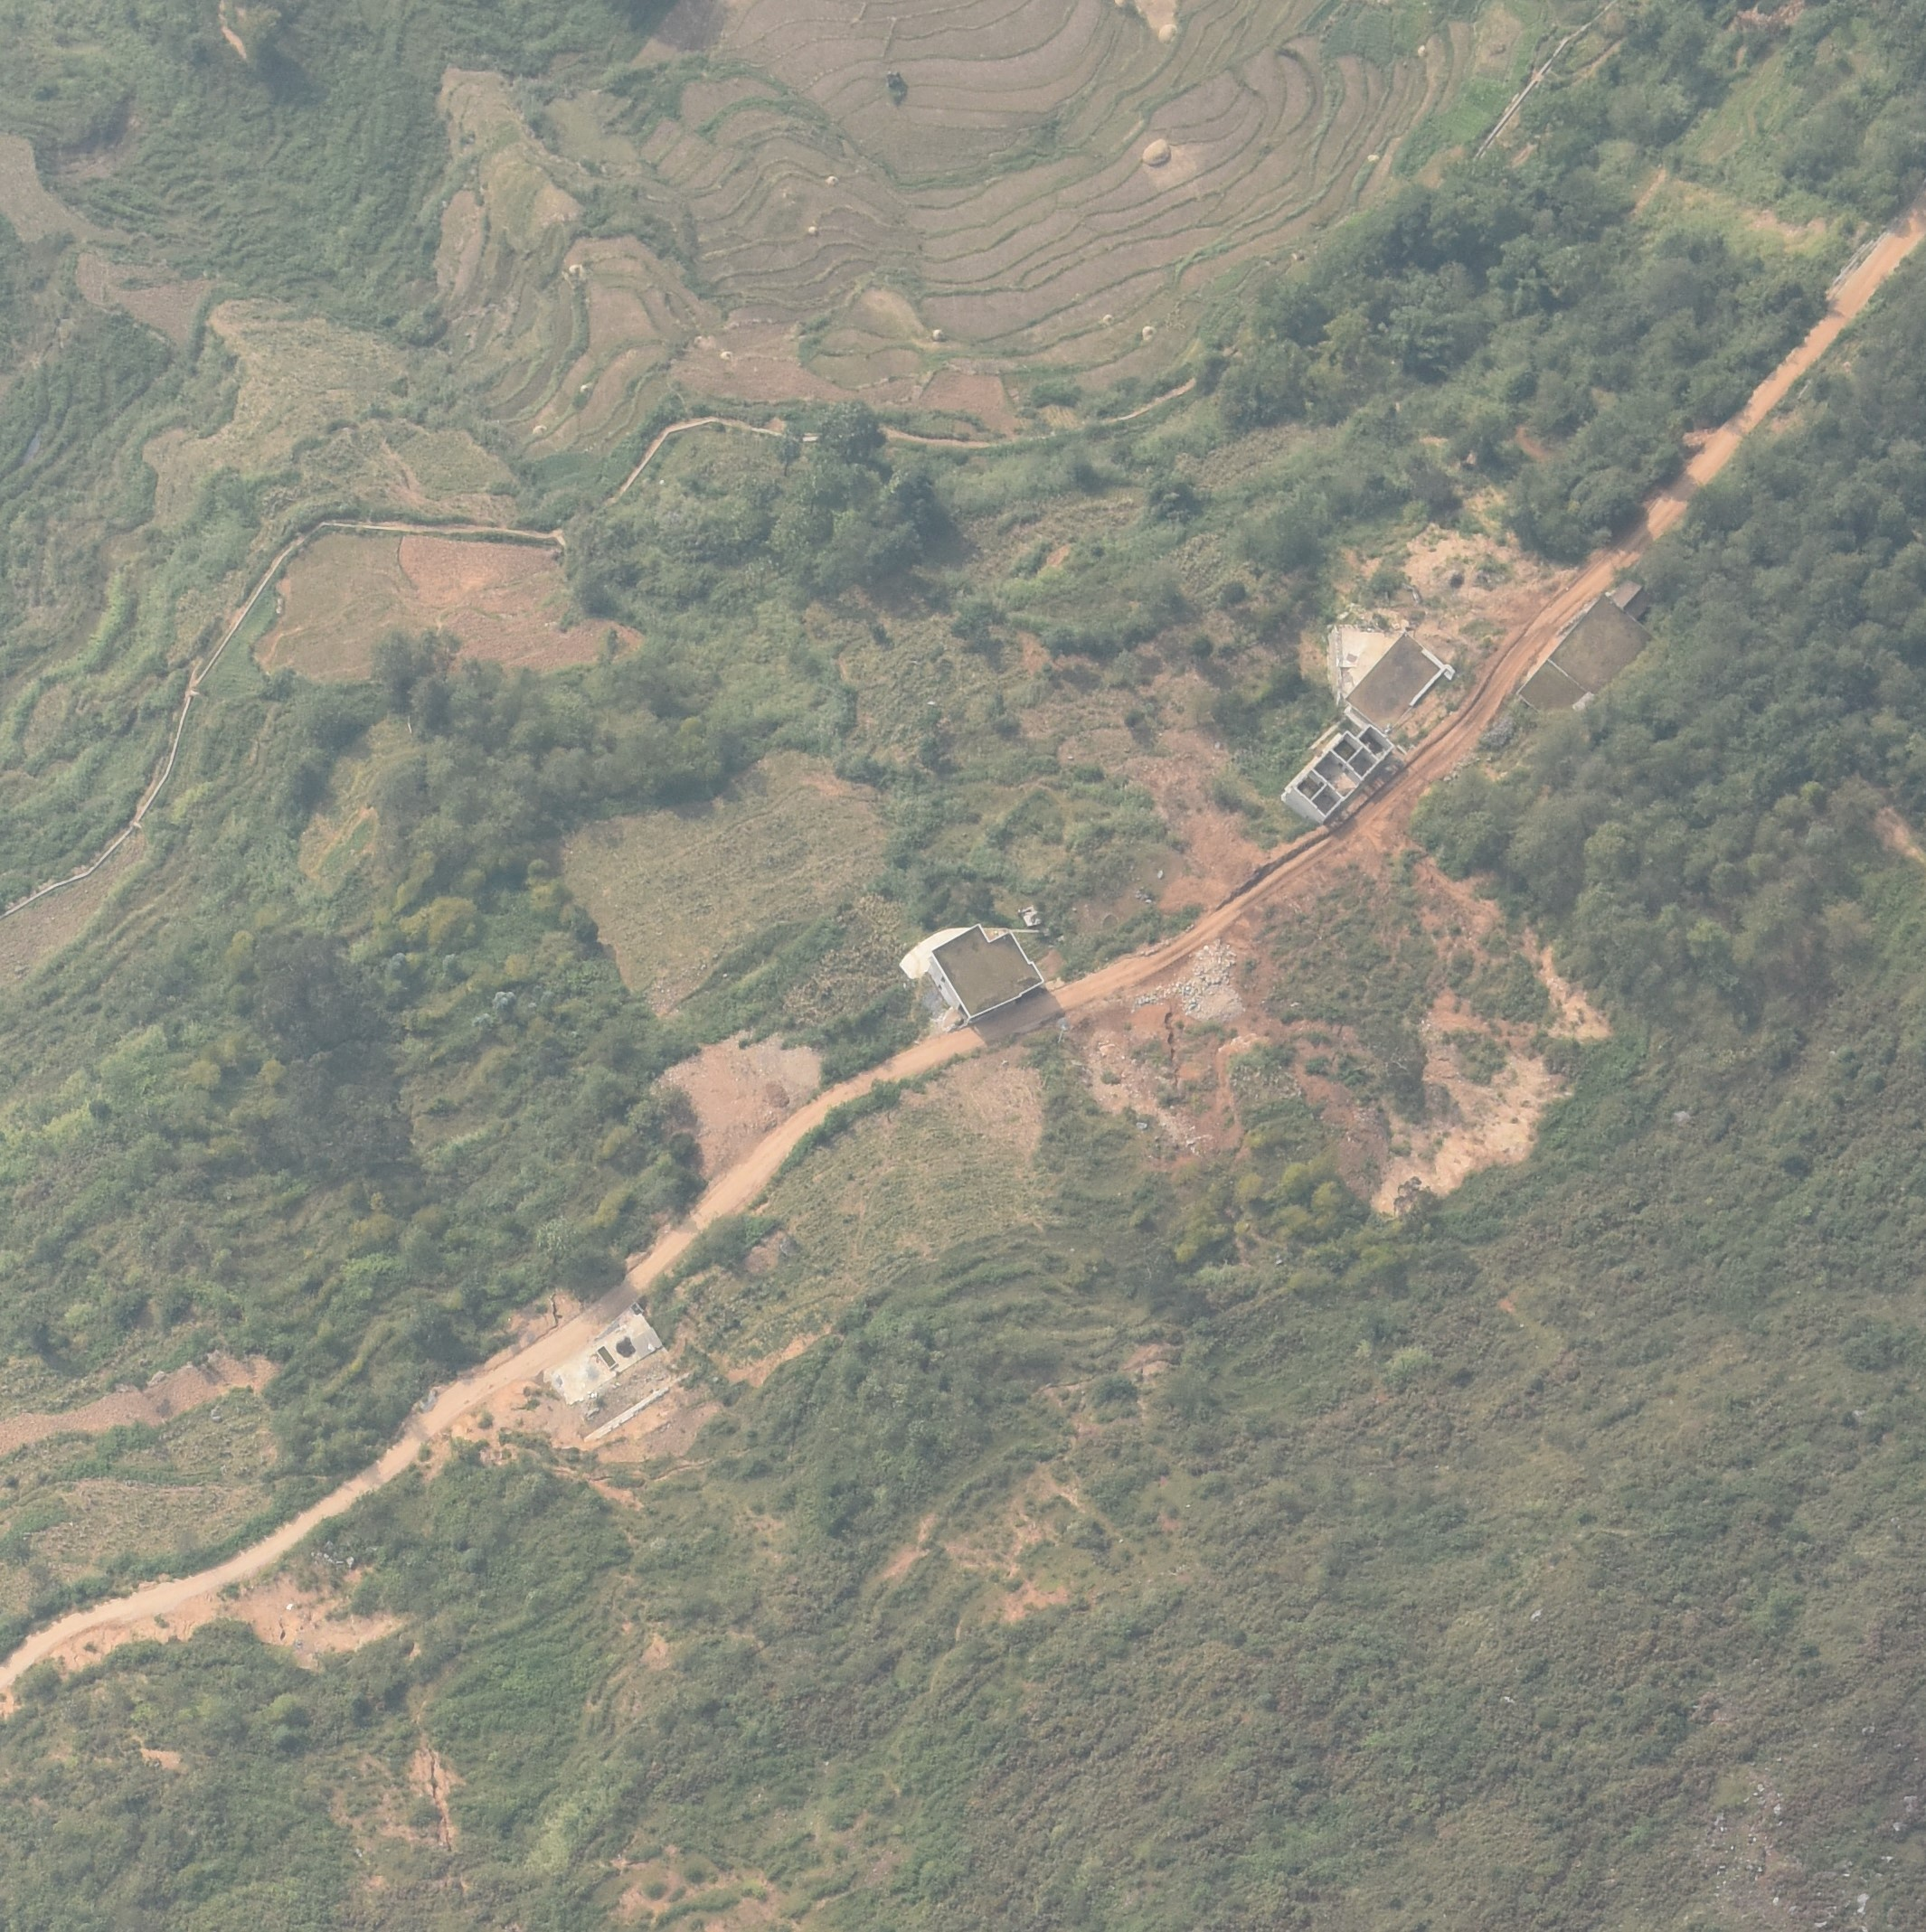building: (1515, 592, 1656, 717), (1284, 723, 1395, 820), (933, 924, 1046, 1019), (1346, 629, 1444, 735), (1609, 582, 1656, 620)
